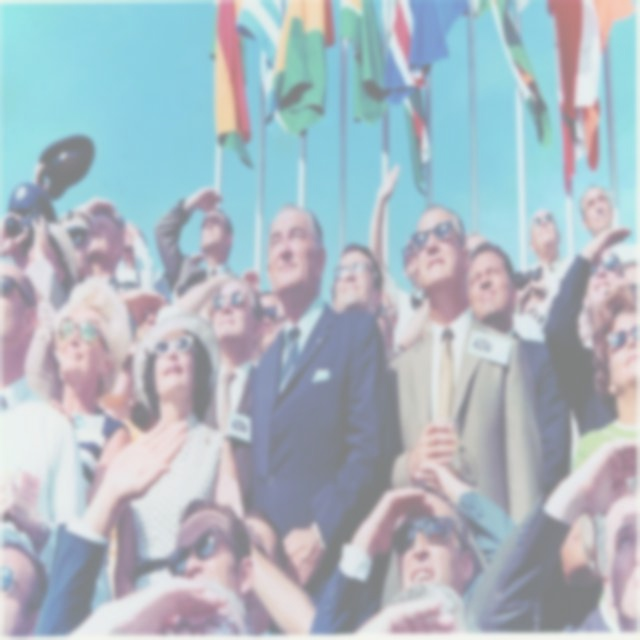pessoa: (247, 202, 391, 594), (389, 202, 546, 542), (113, 302, 244, 600), (309, 460, 518, 636), (468, 436, 638, 634), (2, 130, 175, 310), (46, 274, 132, 616), (463, 239, 574, 494), (1, 260, 87, 576), (67, 570, 482, 635), (543, 225, 633, 440), (200, 272, 266, 514), (572, 280, 638, 472), (153, 186, 243, 324), (165, 496, 256, 623), (512, 205, 574, 342), (100, 312, 162, 445), (1, 212, 78, 314), (378, 266, 430, 366), (560, 512, 603, 632), (368, 160, 416, 264), (434, 238, 481, 342), (0, 540, 48, 638), (241, 266, 286, 368), (330, 244, 384, 322), (176, 250, 216, 324), (240, 511, 284, 565), (576, 182, 615, 238), (103, 521, 119, 604), (578, 294, 596, 352), (466, 231, 490, 262), (568, 408, 581, 462), (622, 266, 638, 306), (610, 243, 637, 265), (330, 277, 341, 315)
